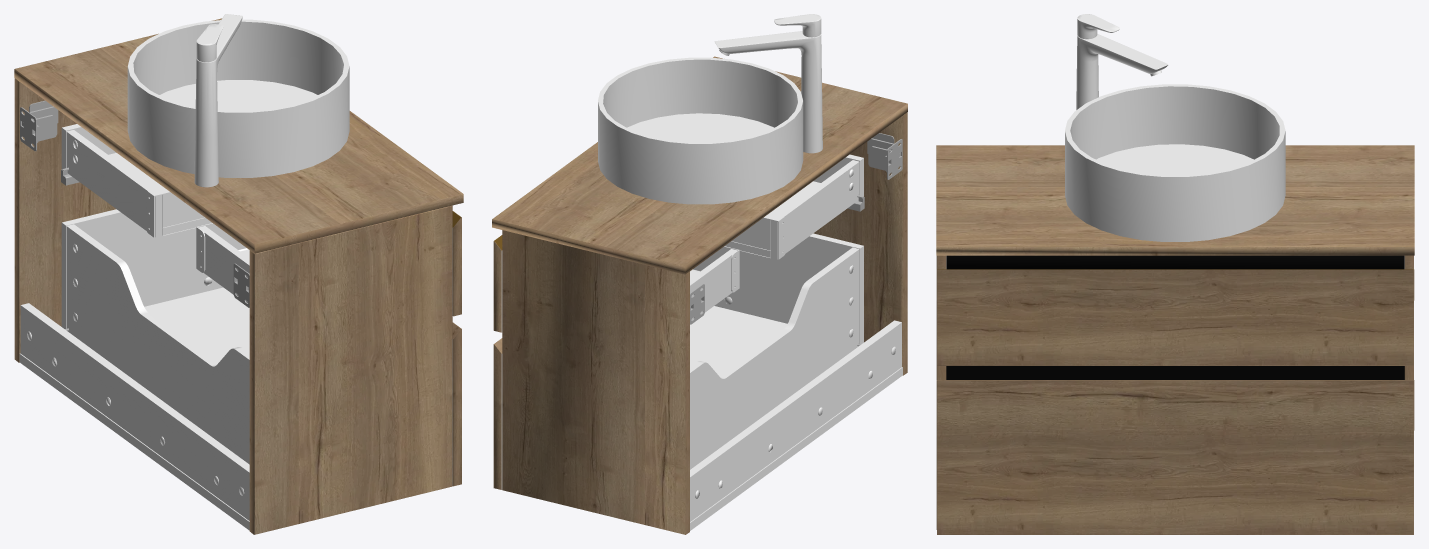
3 renders of one model, left to right at view 1: azimuth 30°, elevation 25°; view 2: azimuth 150°, elevation 25°; view 3: azimuth 270°, elevation 25°, orthographic. The views are drawn at different scales.
Visible parts, largest first — view 1: Object_8, Object_3, Object_2, Object_7; view 2: Object_8, Object_3, Object_2, Object_7; view 3: Object_8, Object_3, Object_5, Object_2.
Boxes of the visible parts, x1=… form: Object_8: x1=14, y1=18, x2=463, y2=534; Object_3: x1=19, y1=19, x2=452, y2=530; Object_2: x1=194, y1=14, x2=242, y2=187; Object_7: x1=20, y1=100, x2=249, y2=330; Object_8: x1=492, y1=56, x2=907, y2=534; Object_3: x1=501, y1=57, x2=902, y2=530; Object_2: x1=714, y1=14, x2=822, y2=153; Object_7: x1=690, y1=133, x2=902, y2=345; Object_8: x1=936, y1=145, x2=1414, y2=534; Object_3: x1=1065, y1=84, x2=1285, y2=241; Object_5: x1=946, y1=255, x2=1404, y2=379; Object_2: x1=1076, y1=14, x2=1168, y2=109.
Bounding box in the file's own units: 45.17 × 89.17 × 89.94.
6 materials, 1 textured.
